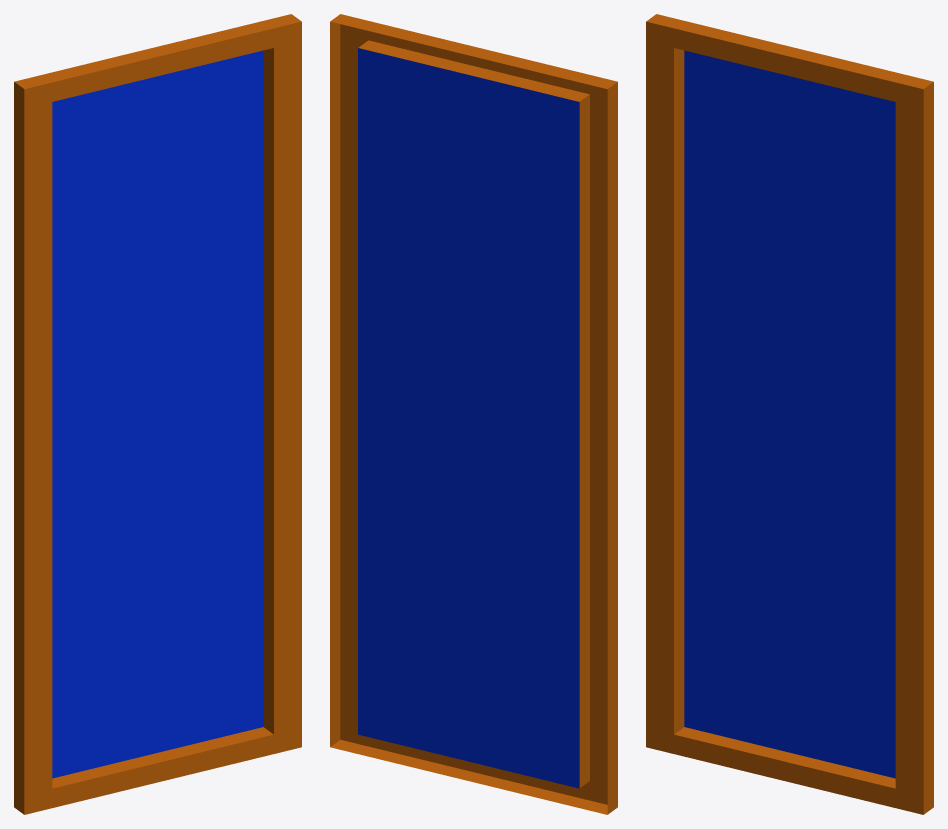
The model's file is PosterA_003.fbx.
3 renders of one model, left to right at view 1: azimuth 30°, elevation 25°; view 2: azimuth 150°, elevation 25°; view 3: azimuth 330°, elevation 25°, orthographic.
Visible parts, largest first — view 1: PosterA_003; view 2: PosterA_003; view 3: PosterA_003.
Part boxes in pixels (x1,y1,x2,y2): PosterA_003: [14, 14, 301, 814]; PosterA_003: [330, 14, 617, 814]; PosterA_003: [646, 14, 933, 814].
Bounding box in the file's own units: 108 × 270 × 7.
